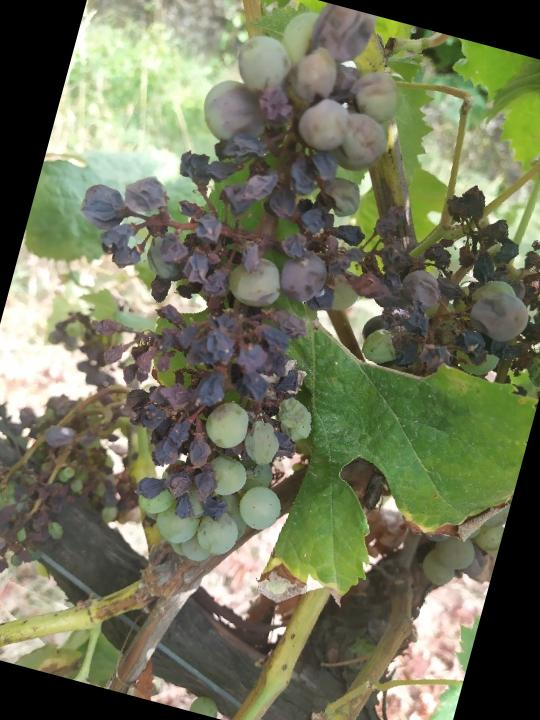grape: (0, 0, 436, 589), (326, 155, 540, 412)
